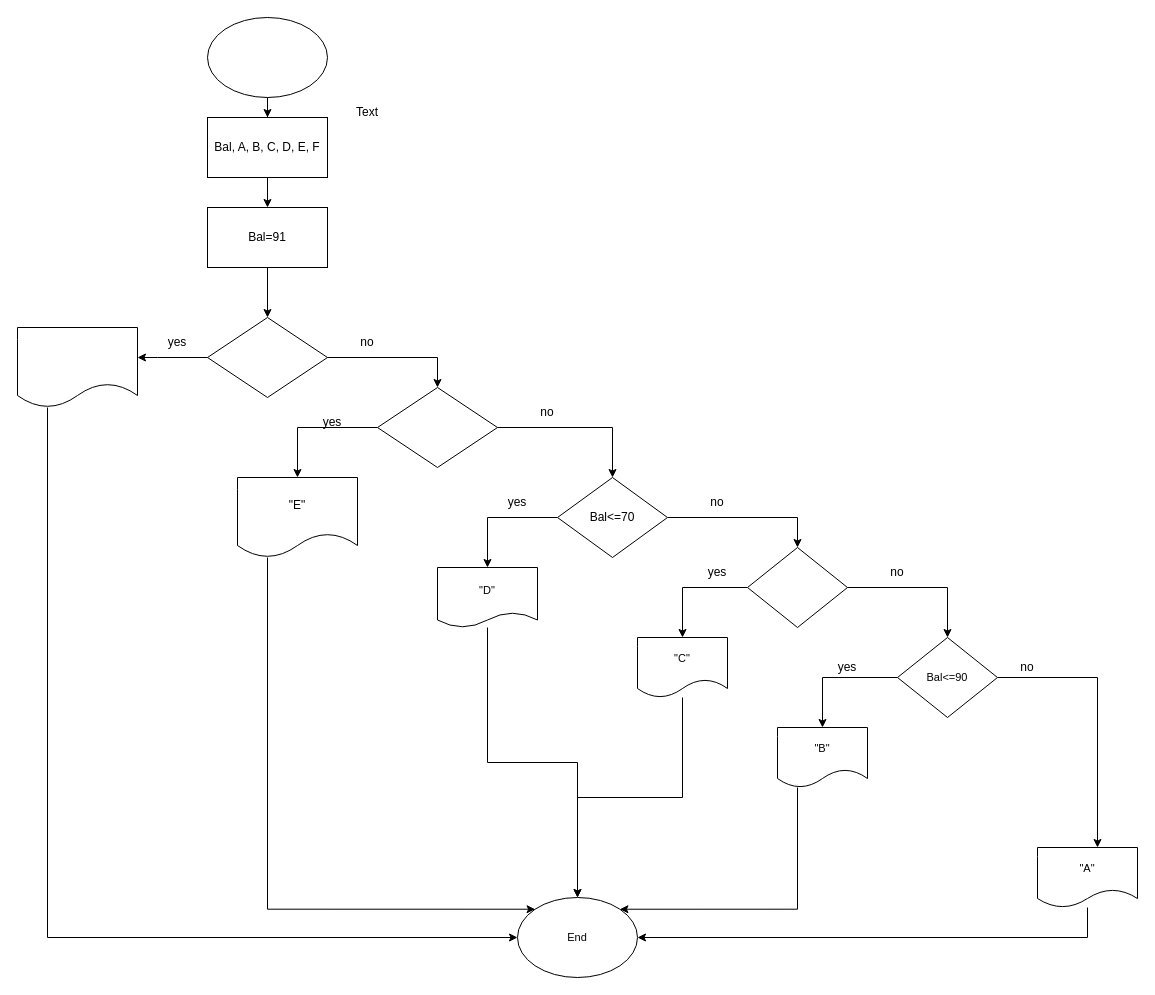
Image size: 1155x995. Some labels were removed from this diagram. Here are the shapes that lost their labels. From the top down, the centre of each, then its label:
[267,57]: Start
[77,367]: "F"
[267,357]: Bal<=50
[437,427]: Bal<=60
[797,587]: Bal<=80
